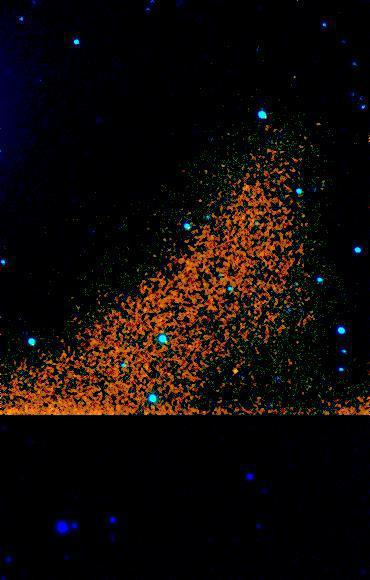star: (224, 357, 254, 387)
